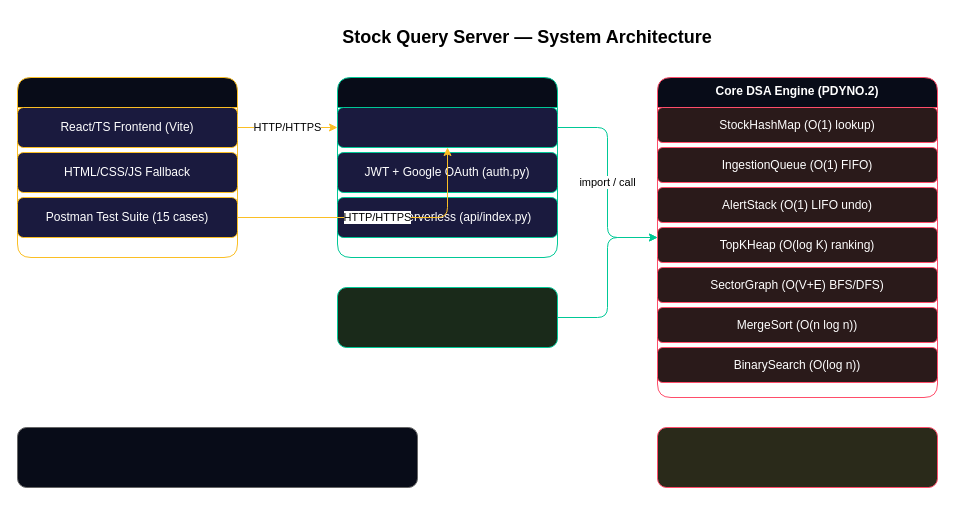
Some shapes in this 955 by 505 pixel diagram are drawn without their labels. The shapes that lost their labels are listed below. From the top down, each one's box as (x1, y1, x2, y2) in pixels, then its label:
(336, 106, 558, 148): Flask REST API (server.py)
(16, 76, 238, 258): Client Layer
(336, 76, 558, 258): API & Auth Layer
(336, 286, 558, 348): Market Simulator (simulator.py)⏱ Real-time price generation (thread)
(16, 426, 418, 488): Legend: 🟡 Client Layer 🟢 API Layer 🔴 DSA Engine (Theme C)
(656, 426, 938, 488): ⚠ Volatile (in-memory)⏺ No external DB — DSA is the store
